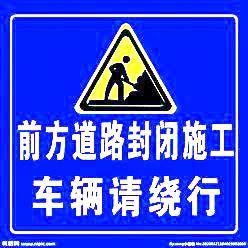sign: (4, 9, 244, 238)
